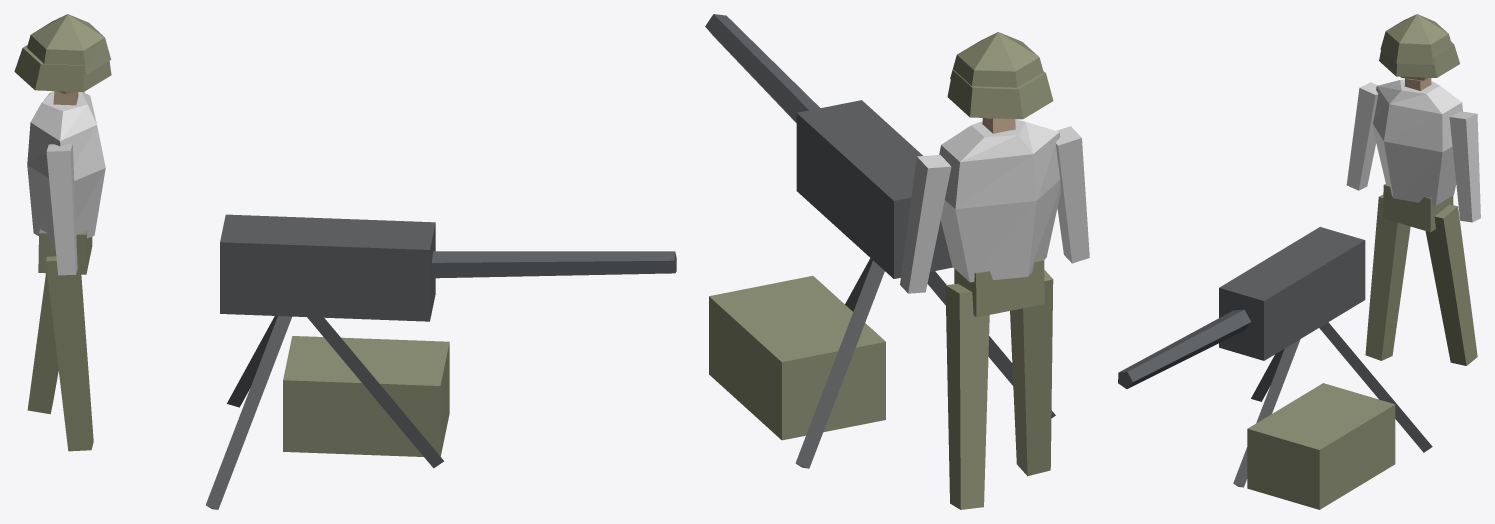
The model's file is machine-gun.glb.
3 renders of one model, left to right at view 1: azimuth 30°, elevation 25°; view 2: azimuth 150°, elevation 25°; view 3: azimuth 270°, elevation 25°, orthographic. The views are drawn at different scales.
Parts seen in each view (by area): view 1: LOD0; view 2: LOD0; view 3: LOD0.
Part boxes in pixels (<box>): LOD0: <box>14,14,676,509</box>; LOD0: <box>705,14,1089,509</box>; LOD0: <box>1118,14,1480,509</box>.
Size of what is drawn, in the model's own units: 0.855 by 0.7361 by 0.6593.
